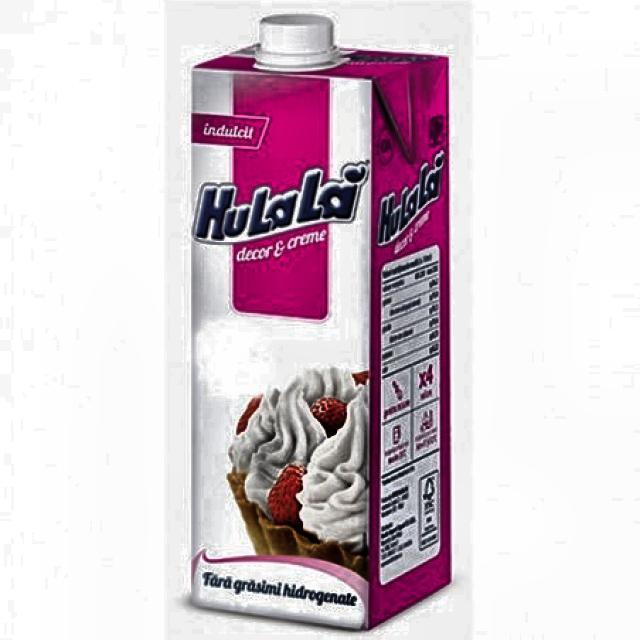cardboard: (187, 15, 452, 630)
